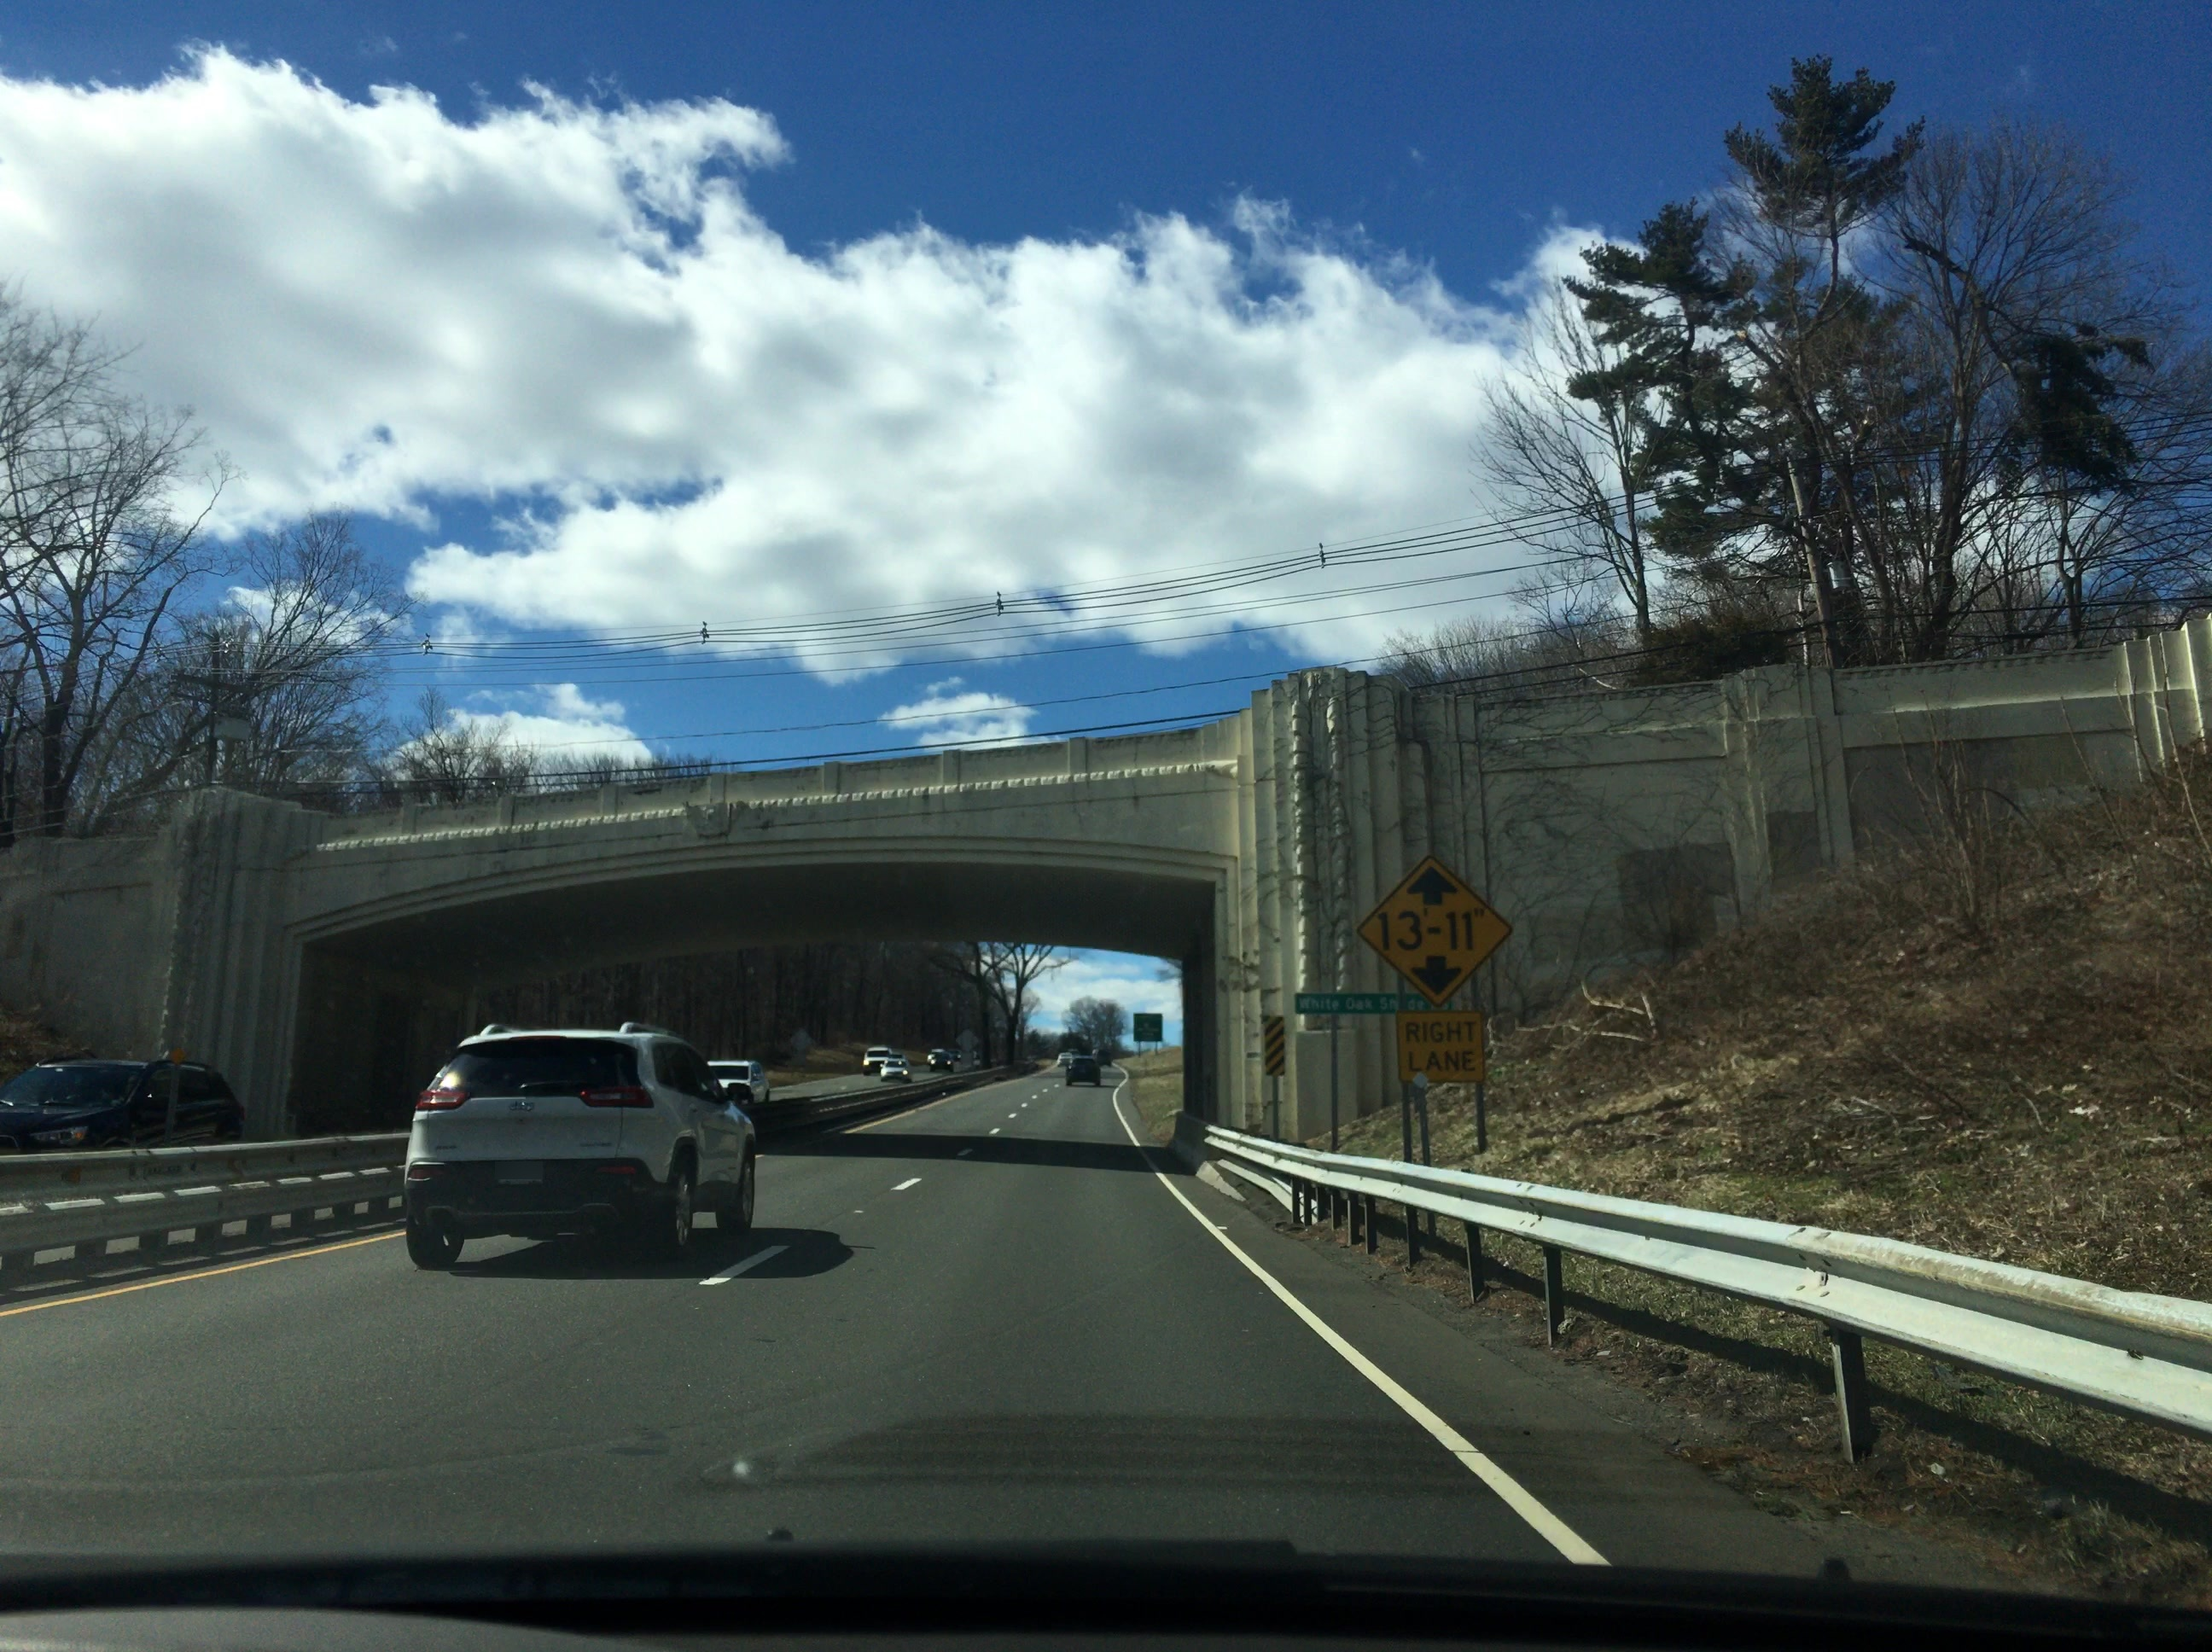low-clearance-sign: (1355, 854, 1515, 1010)
